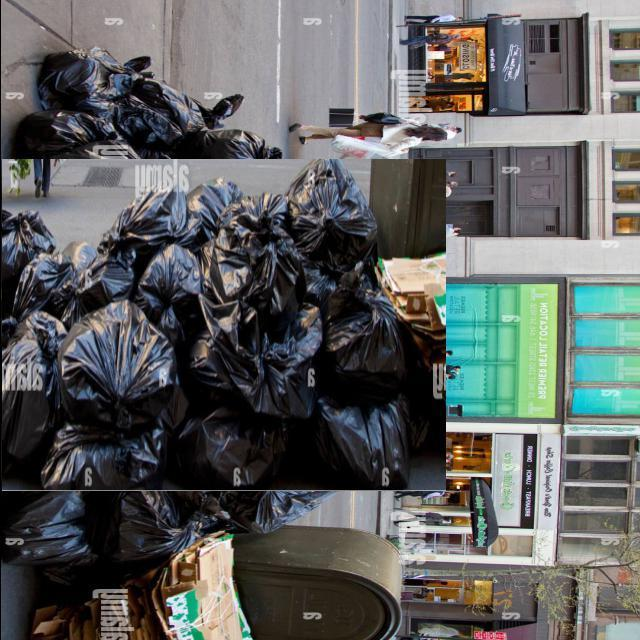Trashbag: (210, 202, 308, 407), (71, 304, 171, 420), (288, 162, 392, 261), (104, 174, 246, 246), (179, 392, 290, 483), (55, 406, 166, 486), (332, 392, 420, 492), (9, 324, 74, 454), (344, 293, 406, 387), (145, 242, 209, 325), (17, 255, 90, 314), (85, 240, 143, 314), (0, 215, 52, 265)
